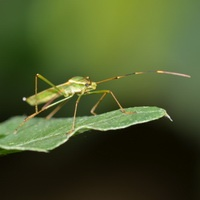insect: (13, 70, 190, 133)
